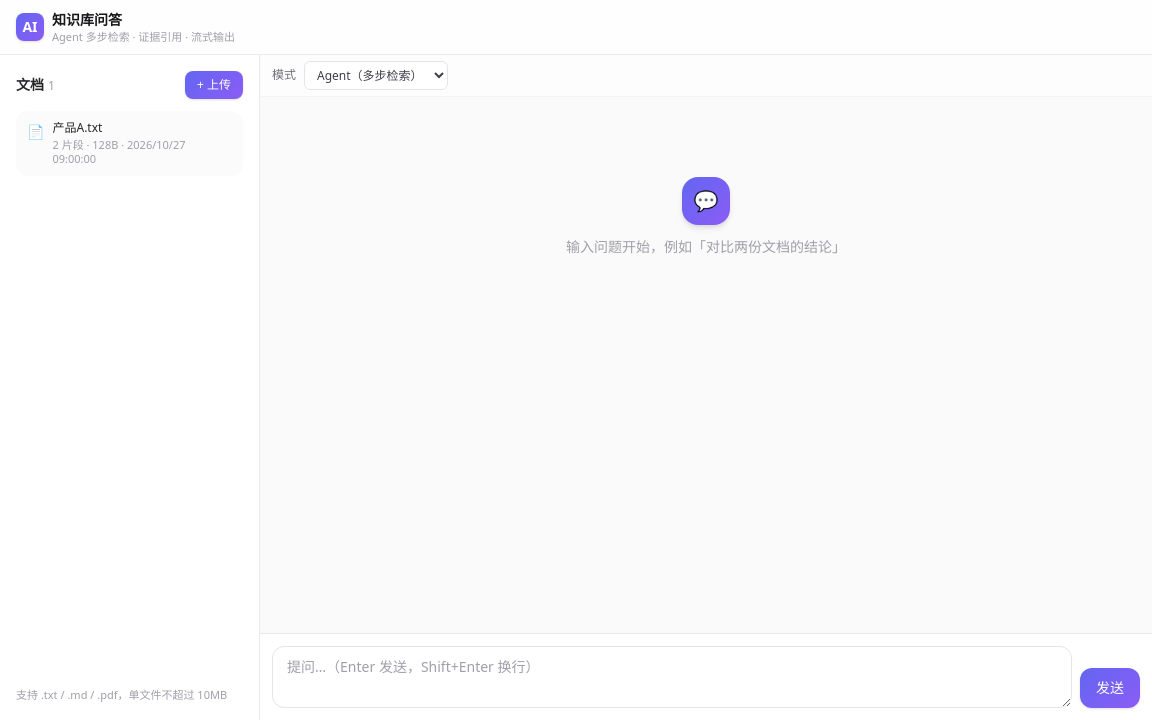
ChatApp › 有文档时可以提问
In the text box with test id "chat-input": (672, 677) x1=272 y1=646 x2=1072 y2=708, type "苹果是什么？"
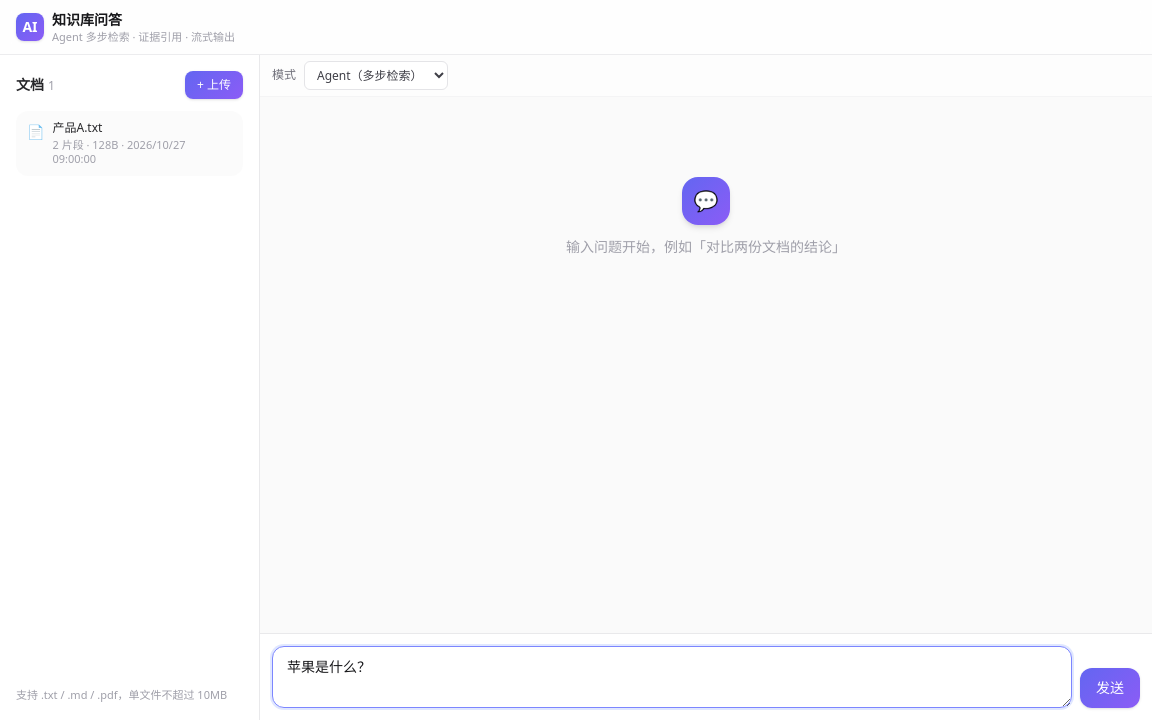
Click the button with test id "send-button": (1110, 688) x1=1080 y1=668 x2=1140 y2=708
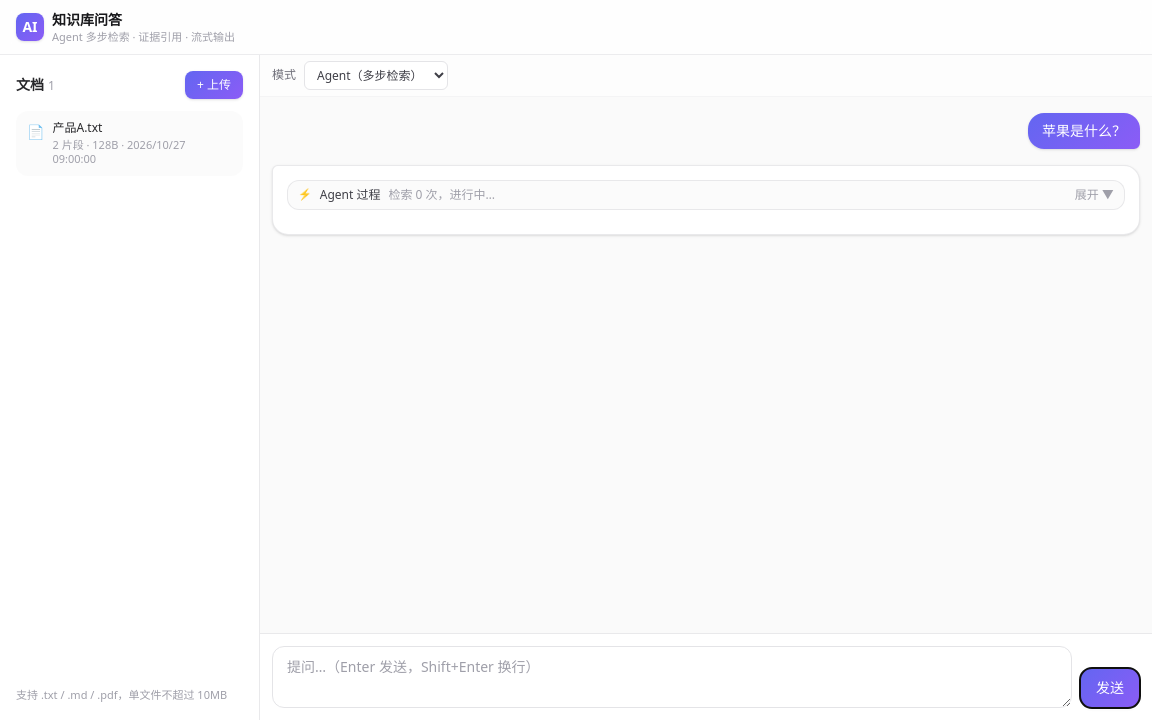
Now the text "苹果是什么？" is shown, box x1=1028 y1=113 x2=1140 y2=149
